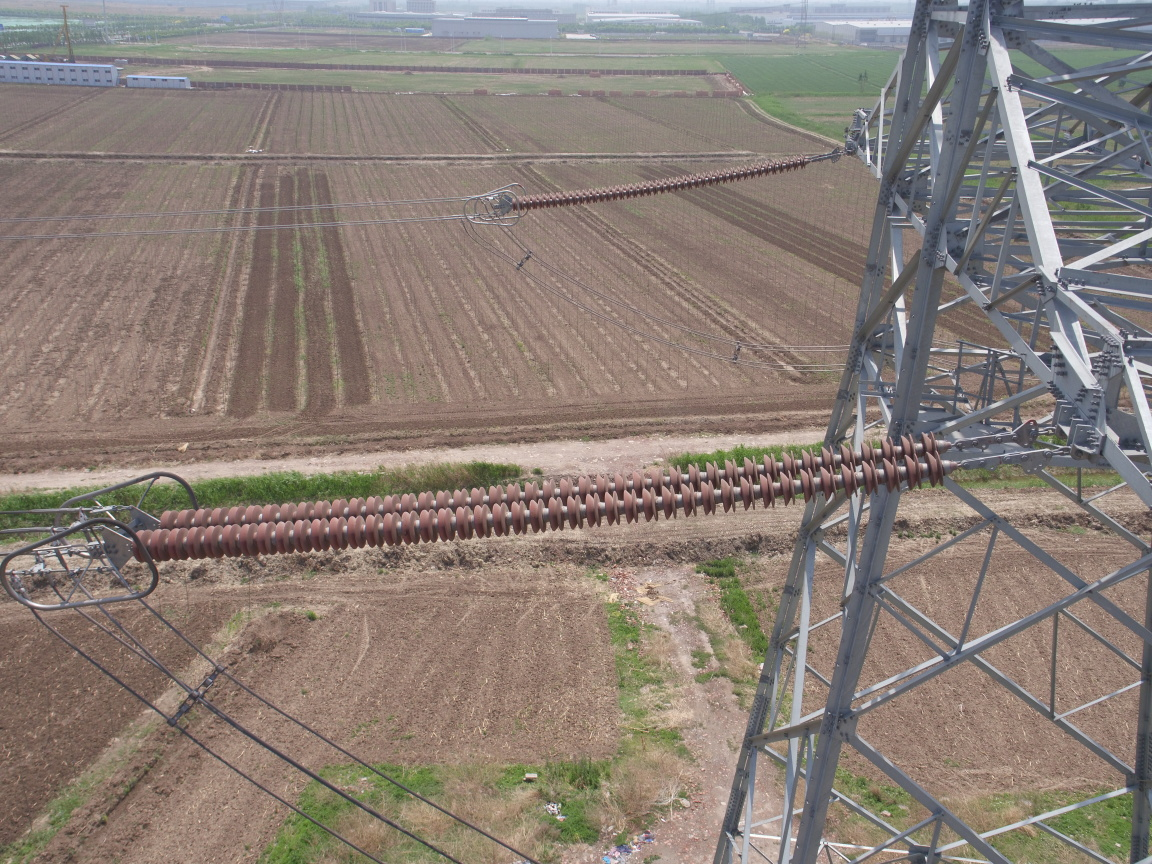insulator: (122, 425, 988, 567), (504, 152, 818, 213)
